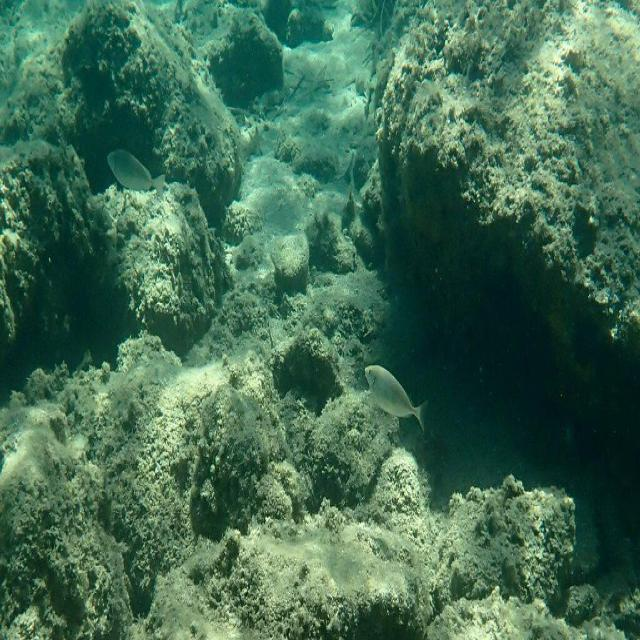Sokar Baligi: (357, 346, 436, 452), (103, 135, 172, 217)
